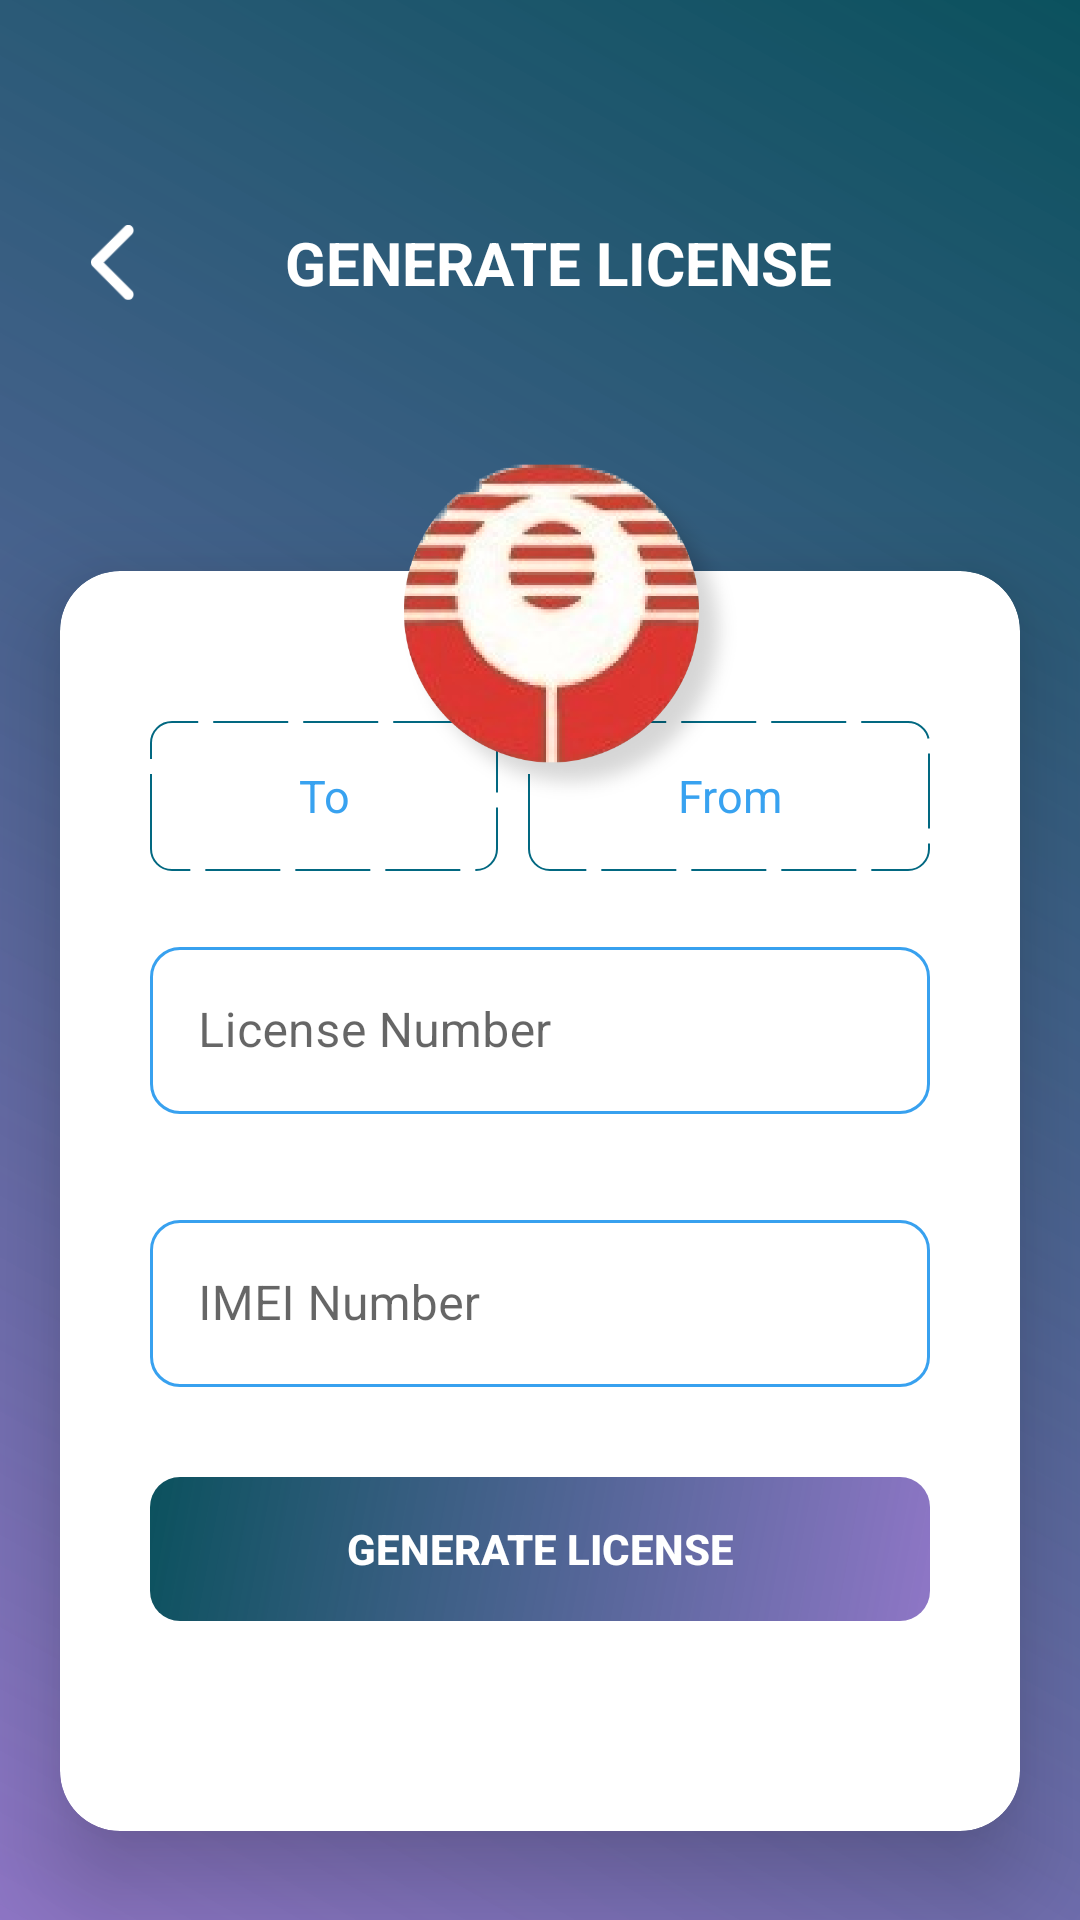

Icon bounding boxes for this 1080 × 1920 phone screenshot, format (x1, y1, x2, y2):
back arrow: (91, 225, 134, 300)
